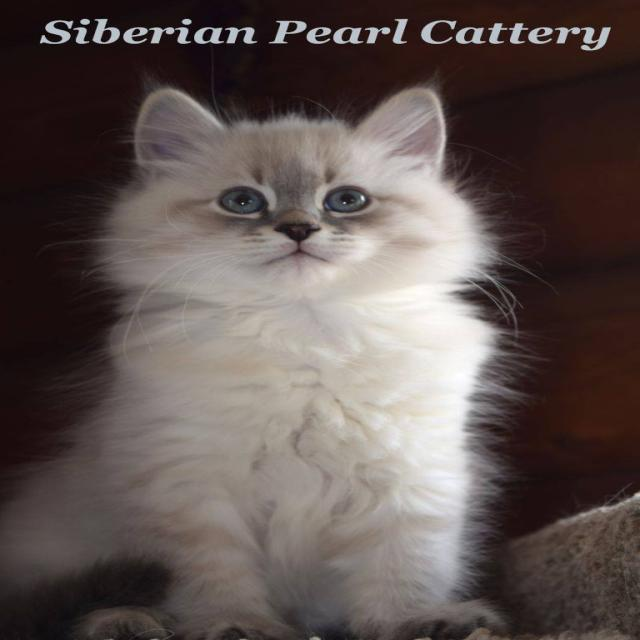Neva Masquerade: (0, 77, 528, 640)
